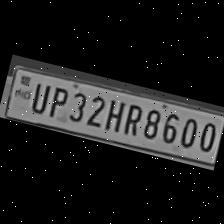0: (193, 117, 219, 154), (175, 113, 200, 149)
2: (80, 90, 108, 130)
3: (62, 86, 89, 124)
6: (155, 106, 182, 146)
8: (136, 104, 162, 142)
H: (100, 94, 126, 132)
P: (42, 82, 70, 120)
R: (118, 98, 144, 138)
U: (24, 77, 50, 114)
